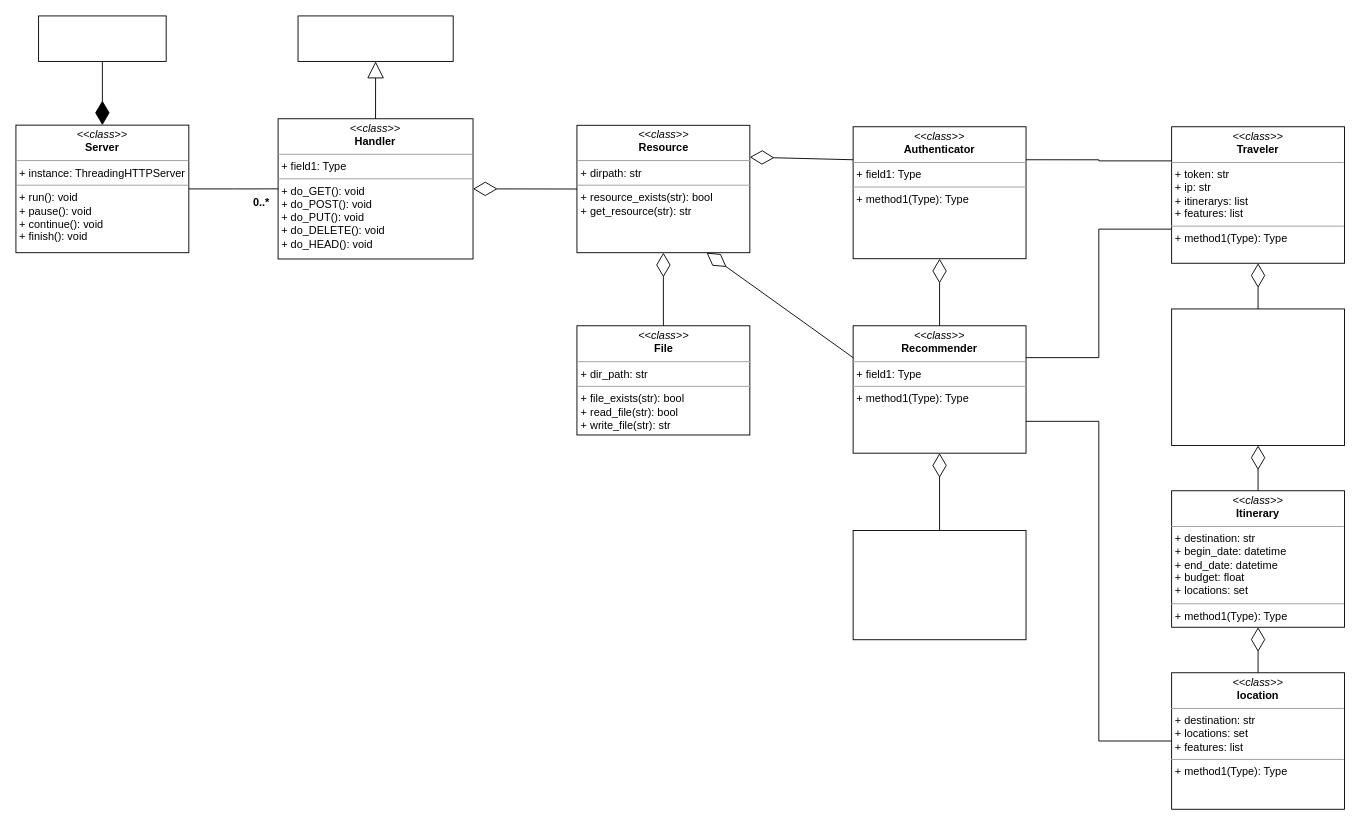
This 1360x825 diagram has some shape labels left out. The centre of each missing label's shape, as x and y in pixels:
<<class>> Database + str_connection: str + is_on(): bool + query(str): bool: the point at 939,585
<<class>> TravelerItinerarys + destination: str + method1(Type): Type: the point at 1258,376
«library class» BaseHTTPRequestHandler: the point at 375,38
«library class» ThreadingHTTPServer: the point at 102,38
